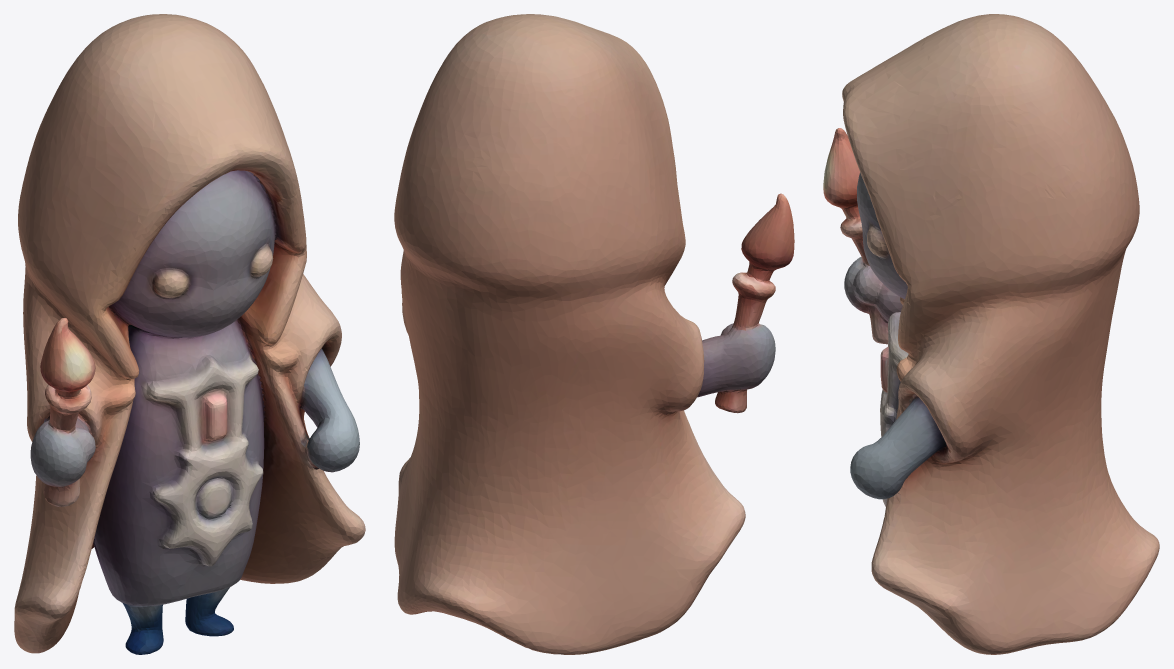
Rendered from minion_ranged_mage.glb.
The picture shows the model from 3 angles, left to right: view 1: azimuth 30°, elevation 25°; view 2: azimuth 150°, elevation 25°; view 3: azimuth 270°, elevation 25°; orthographic projection. The views are drawn at different scales.
Parts seen in each view (by area): view 1: tmpukhobv1j.ply; view 2: tmpukhobv1j.ply; view 3: tmpukhobv1j.ply.
Part boxes in pixels (<box>): tmpukhobv1j.ply: <box>14,14,365,654</box>; tmpukhobv1j.ply: <box>394,14,794,654</box>; tmpukhobv1j.ply: <box>823,14,1159,654</box>.
Size of the model in its own units: 1.22 by 1.99 by 1.03.
Materials: 1 (1 with a texture image).
